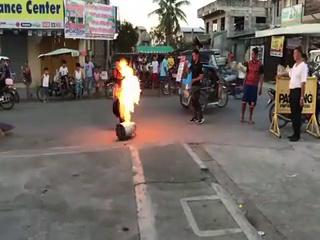Fire: (112, 52, 141, 124)
